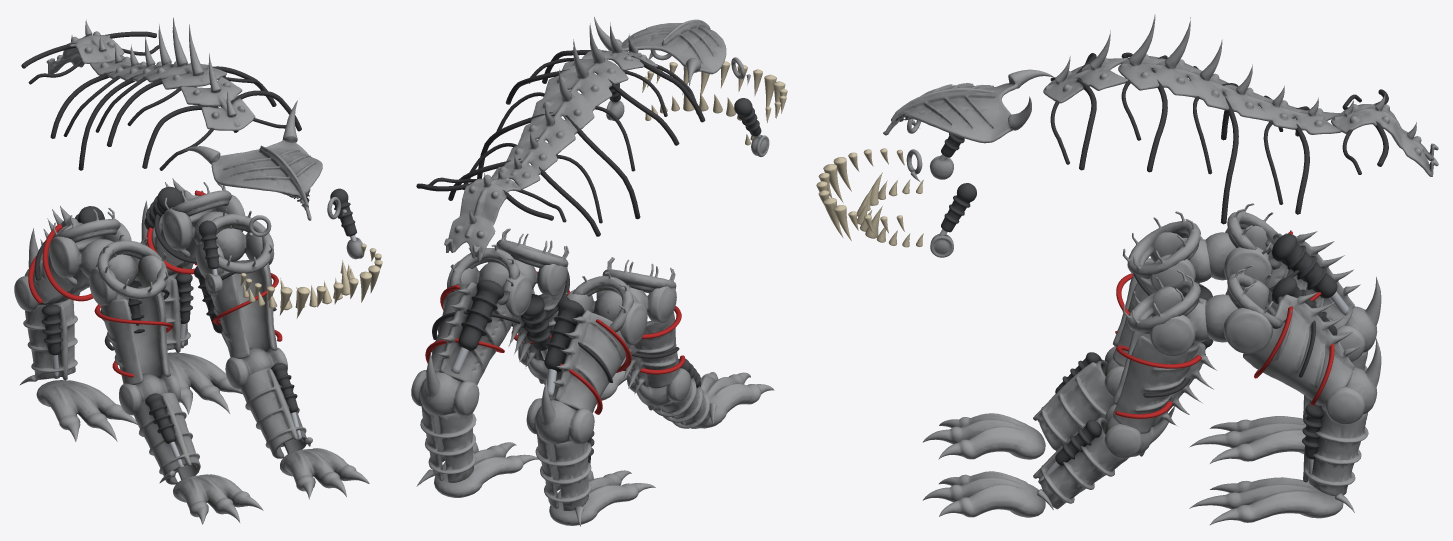
Rendered from gorehound-parts.glb.
3 views of the same model, side by side, from view 1: azimuth 30°, elevation 25°; view 2: azimuth 150°, elevation 25°; view 3: azimuth 270°, elevation 25° (orthographic). The views are drawn at different scales.
Visible parts, largest first — view 1: skull|brow, forearm.r|tibia, forearm.l|tibia, spine|ridge, foot.r|toes, hand.l|cannon, spine|cables, hand.r|cannon, foot.r|cannon, hand.r|toes, hand.l|toes, chest|ridge (+31 smaller); view 2: spine|ridge, spine|cables, shin.r|tibia, shin.l|tibia, skull|brow, pelvis|ridge, foot.l|cannon, foot.r|cannon, foot.r|hock, foot.l|hock, foot.l|toes, forearm.r|tibia (+27 smaller); view 3: spine|ridge, shin.l|tibia, skull|brow, forearm.l|tibia, foot.l|toes, hand.l|toes, hand.r|toes, hand.r|cannon, foot.r|toes, foot.l|cannon, spine|cables, hand.l|cannon (+27 smaller).
Part boxes in pixels (x1,y1,x2,y2): skull|brow: [182, 100, 322, 220]; forearm.r|tibia: [100, 286, 170, 384]; forearm.l|tibia: [207, 260, 277, 358]; spine|ridge: [90, 17, 226, 89]; foot.r|toes: [19, 375, 137, 441]; hand.l|cannon: [241, 367, 306, 458]; spine|cables: [50, 65, 276, 170]; hand.r|cannon: [134, 392, 200, 484]; foot.r|cannon: [23, 298, 77, 380]; hand.r|toes: [159, 470, 263, 524]; hand.l|toes: [280, 437, 369, 499]; chest|ridge: [180, 53, 255, 130]; spine|ridge: [491, 23, 628, 188]; spine|cables: [448, 58, 679, 236]; shin.r|tibia: [541, 310, 630, 412]; shin.l|tibia: [426, 282, 514, 385]; skull|brow: [594, 17, 726, 85]; pelvis|ridge: [444, 167, 523, 261]; foot.l|cannon: [420, 405, 476, 482]; foot.r|cannon: [535, 433, 591, 510]; foot.r|hock: [526, 380, 594, 444]; foot.l|hock: [411, 352, 479, 416]; foot.l|toes: [416, 442, 538, 497]; forearm.r|tibia: [620, 312, 680, 393]; spine|ridge: [1118, 14, 1340, 134]; shin.l|tibia: [1243, 292, 1360, 405]; skull|brow: [883, 69, 1054, 143]; forearm.l|tibia: [1112, 316, 1216, 433]; foot.l|toes: [1189, 477, 1354, 524]; hand.l|toes: [922, 471, 1053, 517]; hand.r|toes: [922, 413, 1045, 459]; hand.r|cannon: [1033, 359, 1114, 450]; foot.r|toes: [1189, 416, 1306, 463]; foot.l|cannon: [1303, 404, 1368, 496]; spine|cables: [1121, 52, 1309, 224]; hand.l|cannon: [1033, 417, 1129, 509].
Size of the model in its own units: 0.6033 by 1.32 by 1.58.
